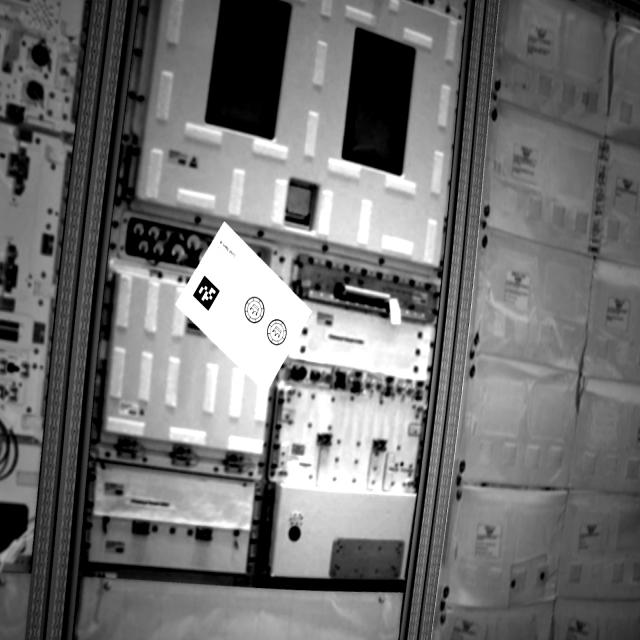coin: (265, 316, 290, 349), (244, 295, 266, 325)
